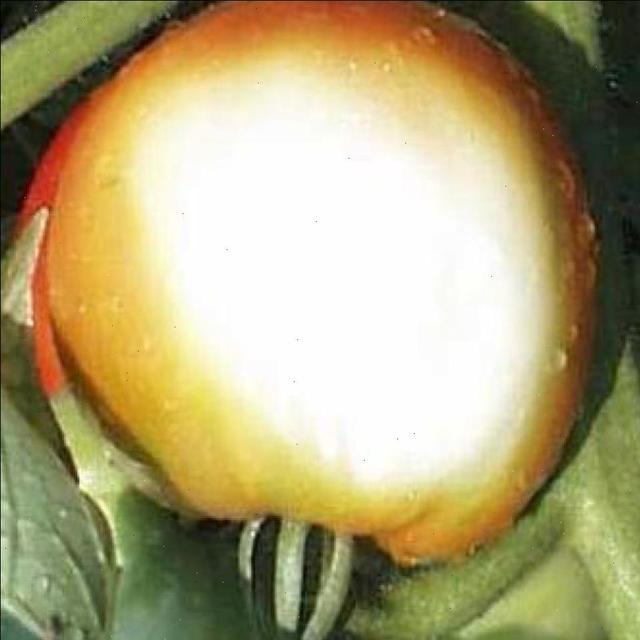Sunscald Fruit: (88, 29, 375, 334)
